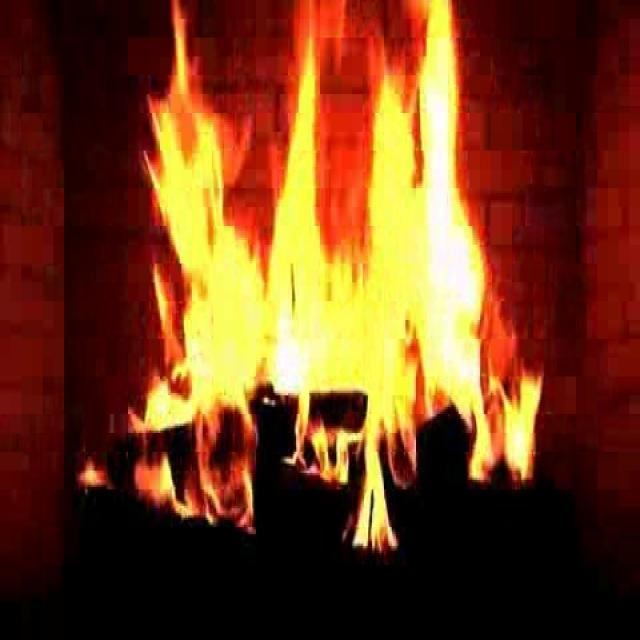Fire: (128, 1, 550, 549)
